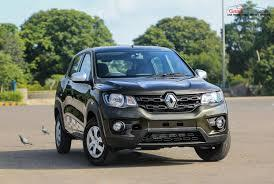Renault: (162, 89, 180, 112)
